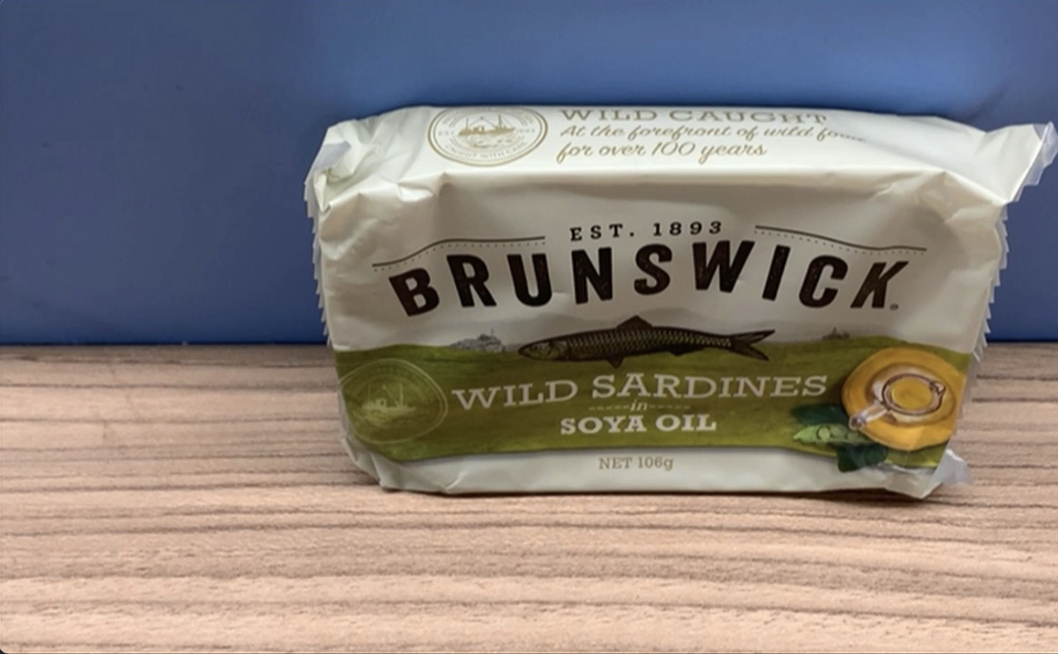sardines_150g: (344, 175, 967, 485)
